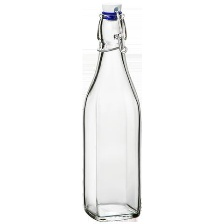bottle: (78, 2, 149, 224)
